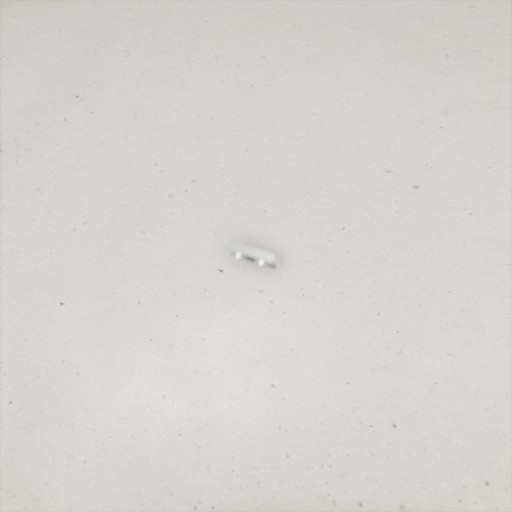lego: (226, 240, 285, 270)
